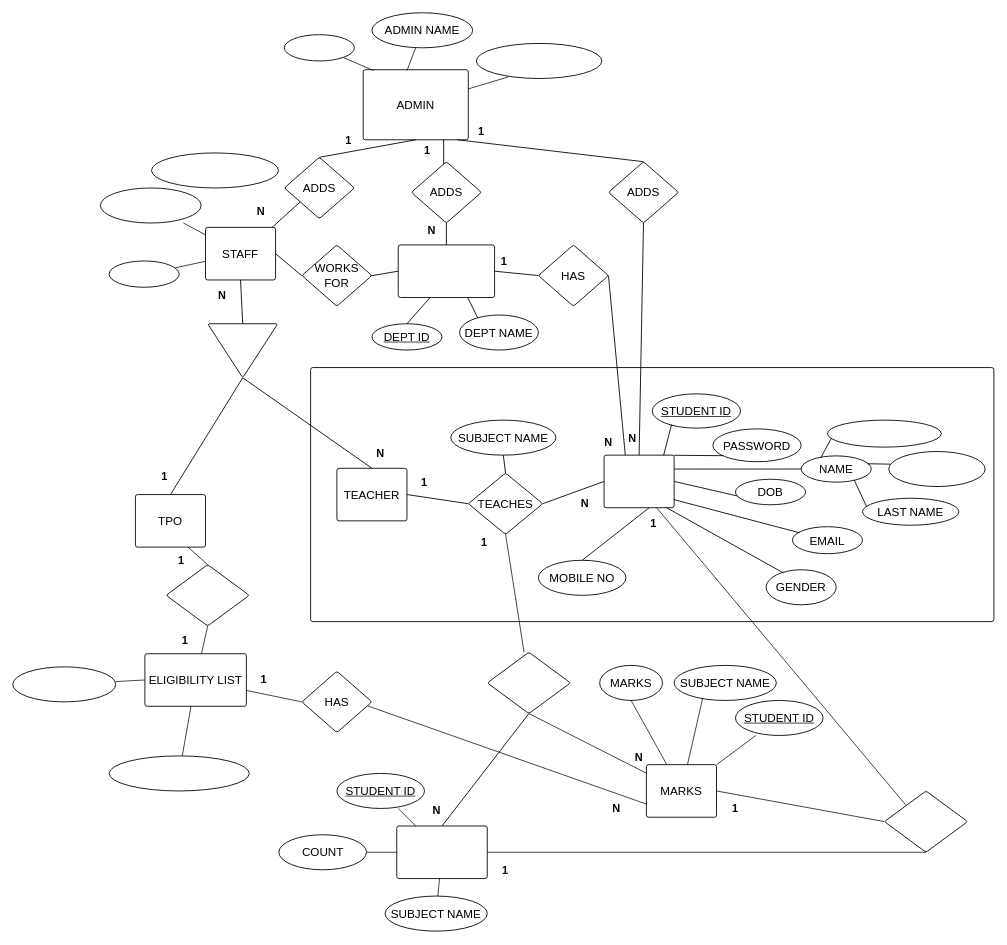
The diagram is 1007 pixels wide and 945 high, and some of its shapes have lost their labels. The centre of each missing label's shape, as x and y in pixels:
"ADMIN ID" belongs at pixel 319 47.
"ADMIN PASSWORD" belongs at pixel 539 61.
"ATTENDANCE" belongs at pixel 441 852.
"COMPANY NAME" belongs at pixel 64 684.
"CREATE" belongs at pixel 207 595.
"DEPARTMENT" belongs at pixel 446 271.
"ELIGIBLE STUDENT ID" belongs at pixel 178 773.
"FIRST NAME" belongs at pixel 884 433.
"IS A" belongs at pixel 242 350.
"MANAGES" belongs at pixel 528 682.
"MIDDLE NAME" belongs at pixel 936 469.
"STAFF ID" belongs at pixel 143 273.
"STAFF NAME" belongs at pixel 150 205.
"STAFF PASSWORD" belongs at pixel 215 170.
"STUDENT" belongs at pixel 638 481.
"VIEWS" belongs at pixel 926 821.
